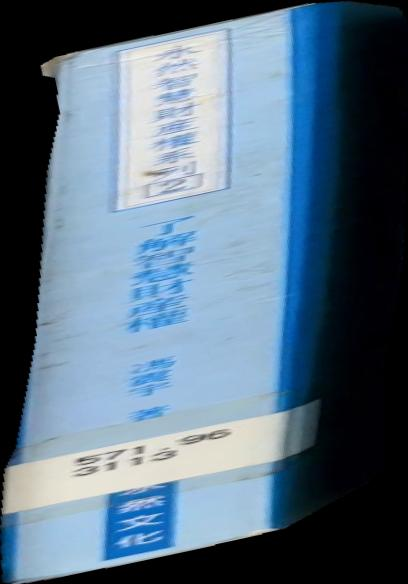book: (1, 1, 408, 584)
